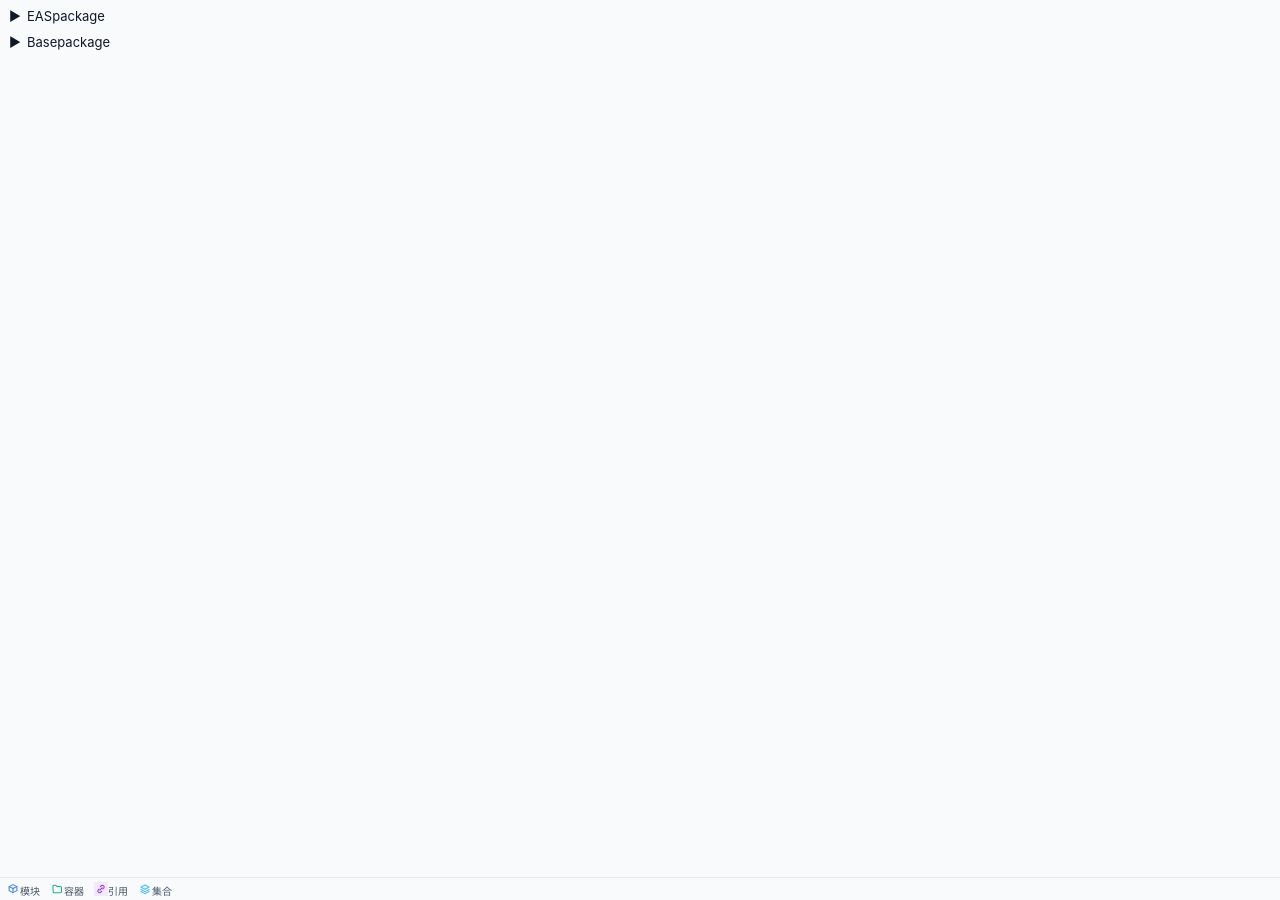
Tree module-kind right-click (Bug 1 — multi-doc) › right-clicking Adc row while active=JWQ3399 opens menu with Adc sourceBswmdPath
Later steps or results of the test are not shown.
Click the button with test id "chevron-/EAS" at (15, 17), box [7,9,23,25]
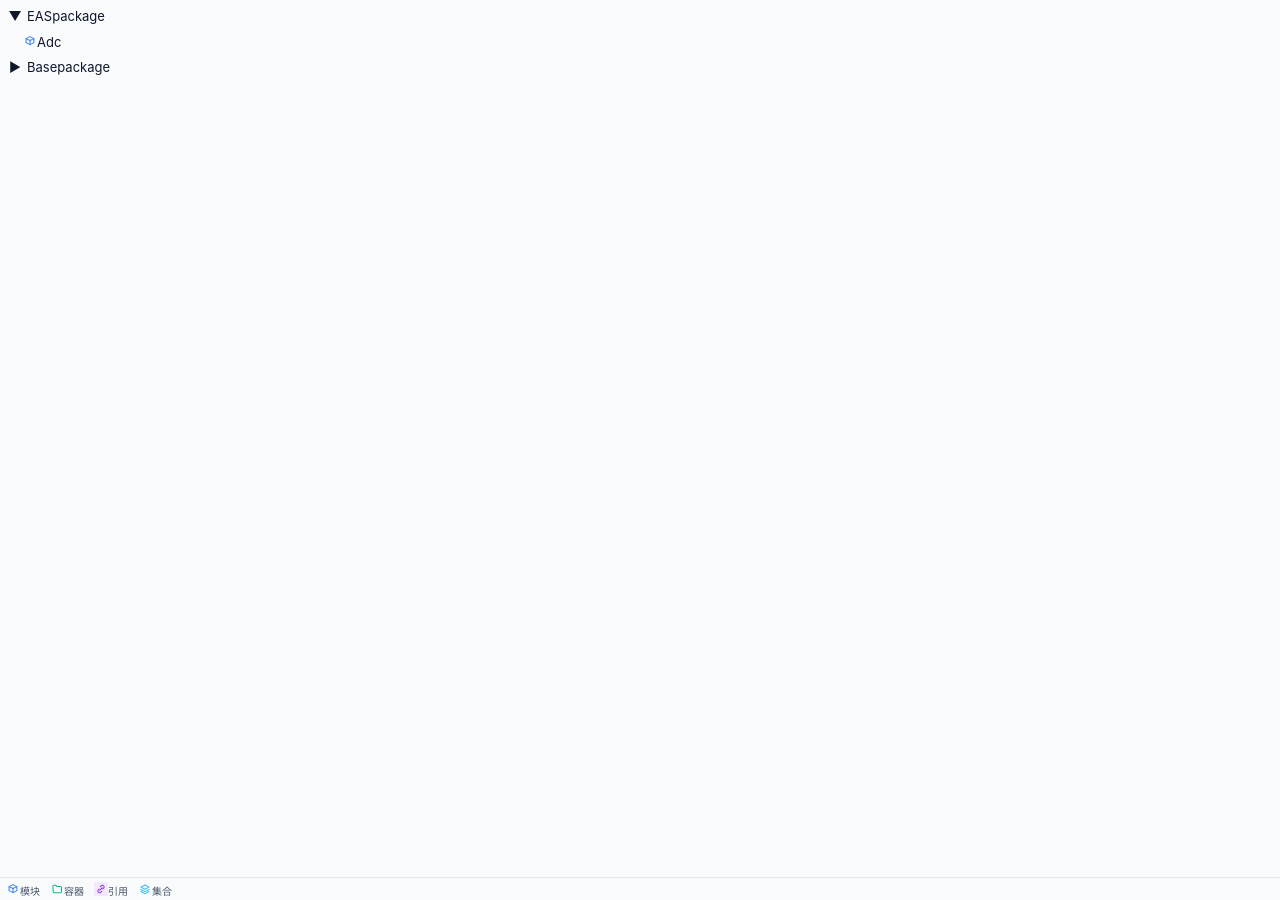
Expected: the list item with test id "treeitem-/EAS/Adc" is shown, [23,32,61,52]
